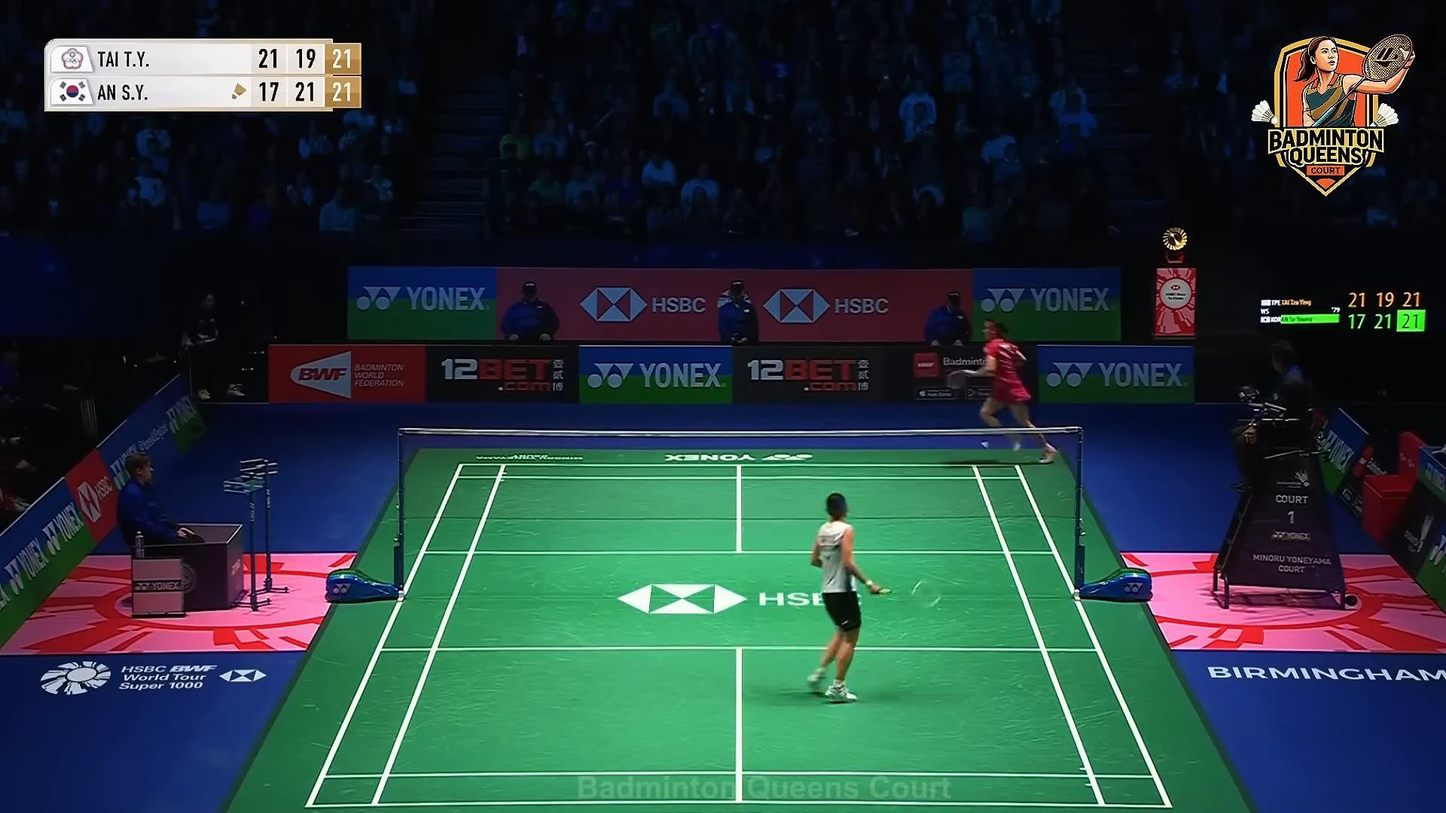shuttlecock: (978, 438, 991, 449)
